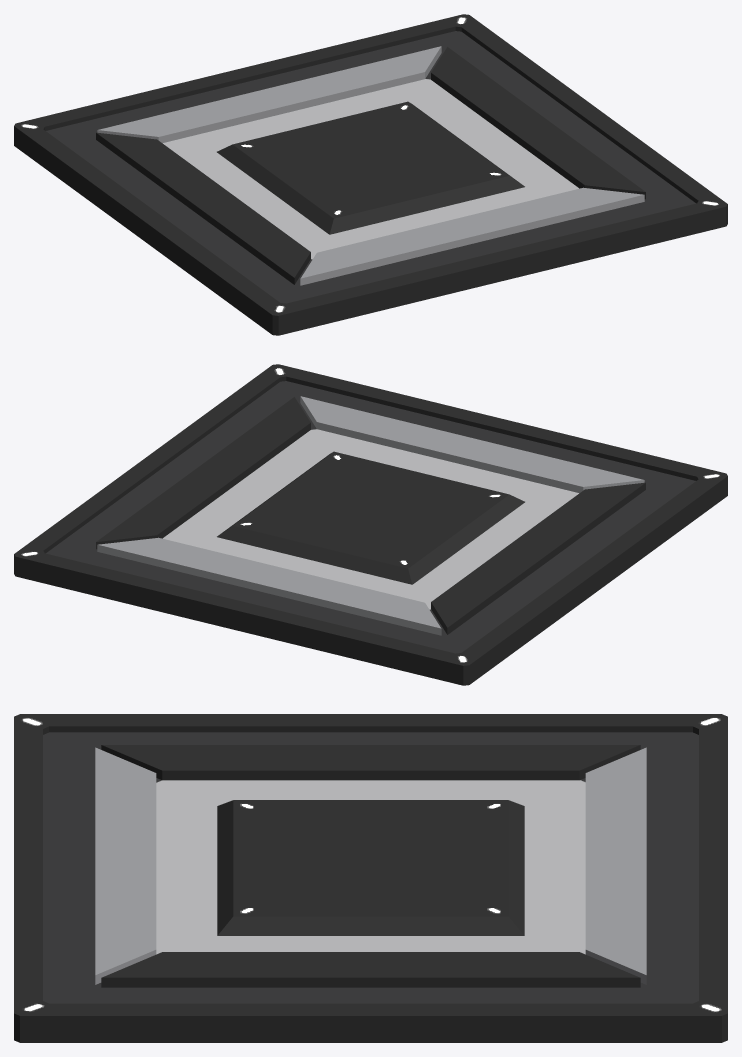
The model's file is SpawnPlate.fbx.
3 views of the same model, one above another, from view 1: azimuth 30°, elevation 25°; view 2: azimuth 150°, elevation 25°; view 3: azimuth 270°, elevation 25° (orthographic). The views are drawn at different scales.
Visible parts, largest first — view 1: SpawnPlate; view 2: SpawnPlate; view 3: SpawnPlate.
Boxes of the visible parts, bbox=[...] form: SpawnPlate: bbox=[14, 14, 727, 335]; SpawnPlate: bbox=[14, 364, 727, 685]; SpawnPlate: bbox=[14, 714, 727, 1042].
Size of the model in its own units: 240 by 12.49 by 240.
